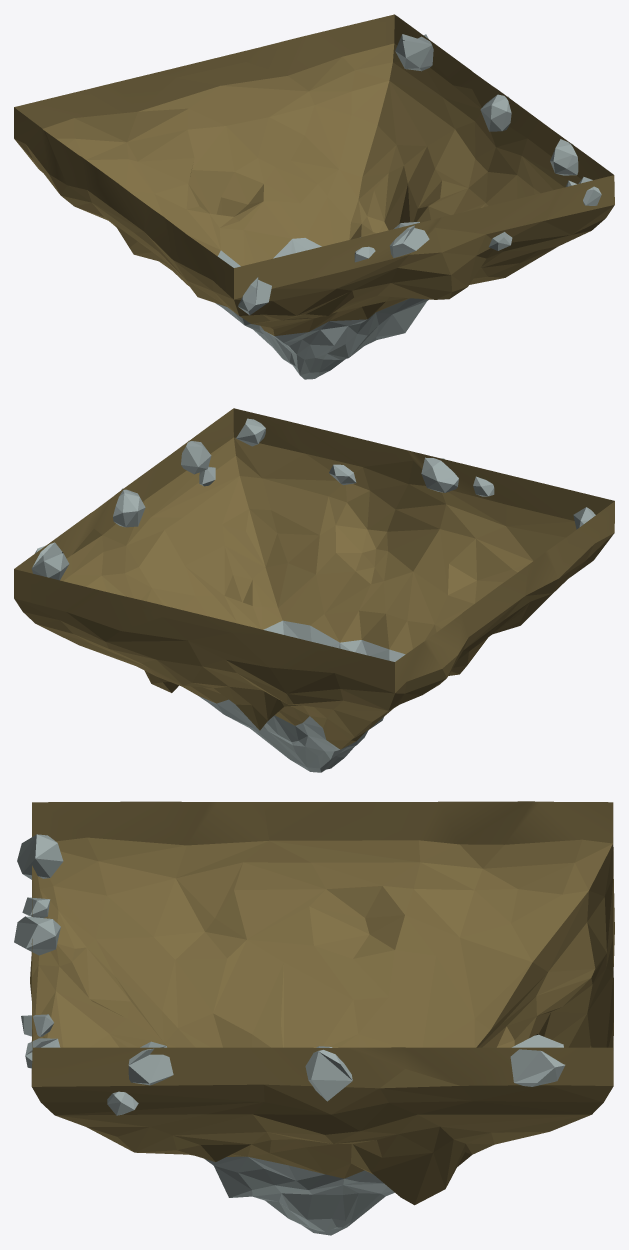
The model's file is Island.fbx.
3 views of the same model, one above another, from view 1: azimuth 30°, elevation 25°; view 2: azimuth 150°, elevation 25°; view 3: azimuth 270°, elevation 25° (orthographic). The views are drawn at different scales.
Visible parts, largest first — view 1: Plane1; view 2: Plane1; view 3: Plane1.
Boxes of the visible parts, x1=… form: Plane1: x1=14, y1=14, x2=614, y2=379; Plane1: x1=14, y1=408, x2=614, y2=772; Plane1: x1=14, y1=801, x2=614, y2=1235.
Bounding box in the file's own units: 987 × 556 × 976.
